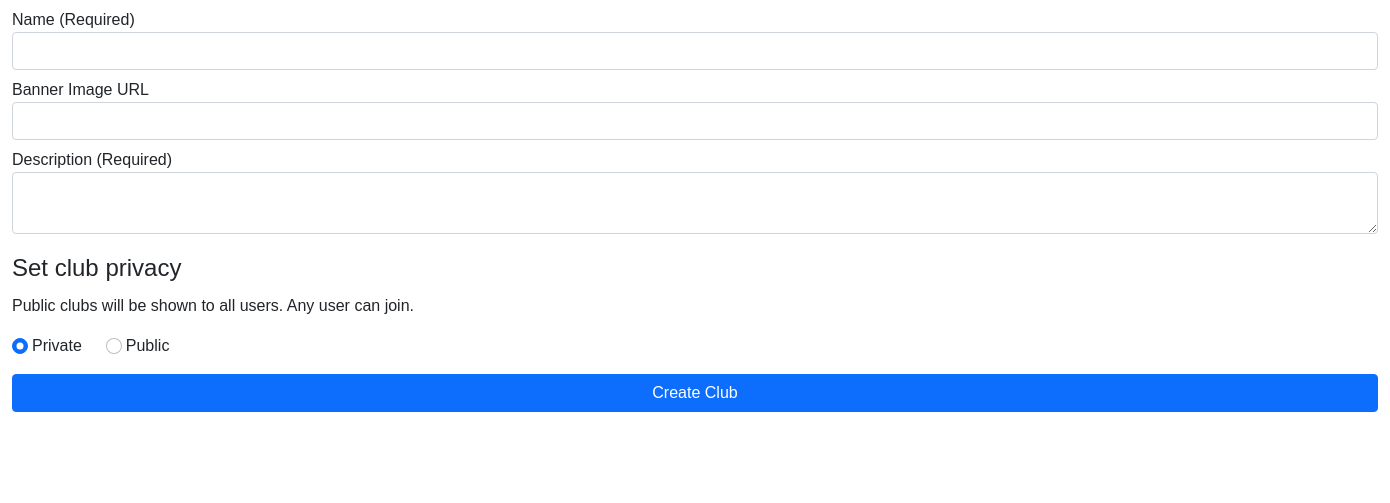
Test: NewClubForm › Shows error on failed submit
# Fill all required inputs
In the field labelled "Name (Required)": (695, 51) [12,32,1378,70], type "name"
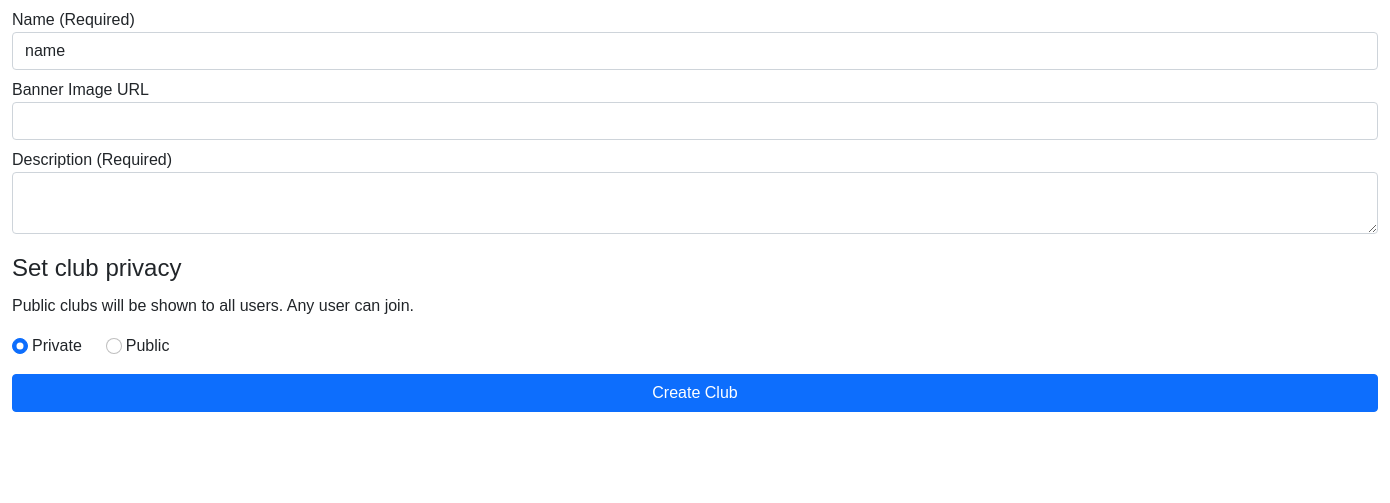
In the text box labelled "Description (Required)": (695, 203) [12,172,1378,234], type "description"
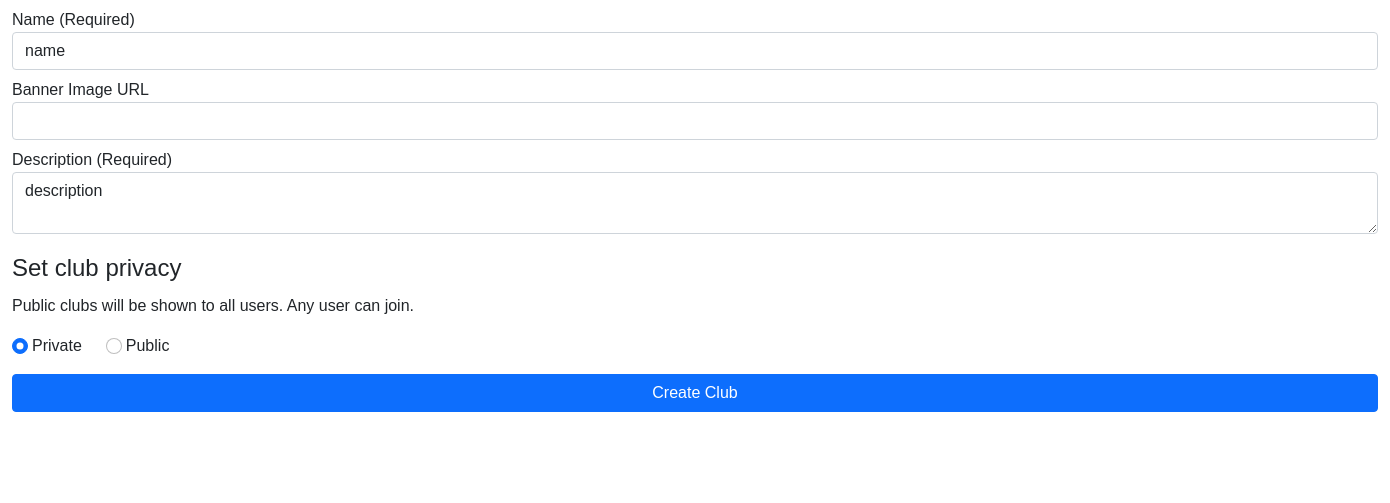
Click the button "Create Club": (695, 393) [12,374,1378,412]
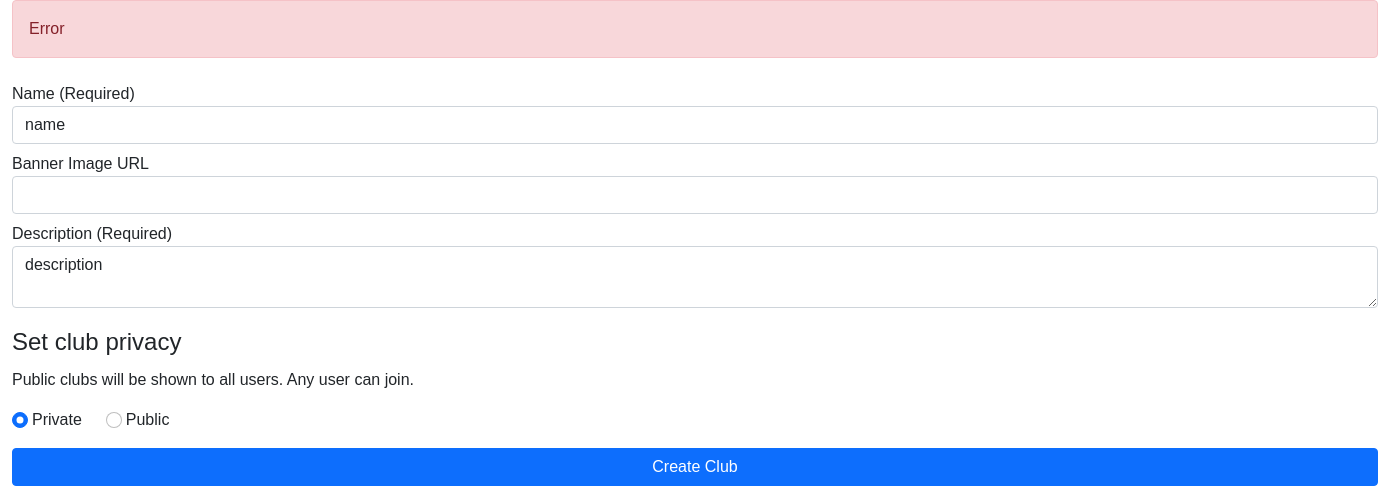
Expected: the text "Error" is shown, [12,0,1378,58]
